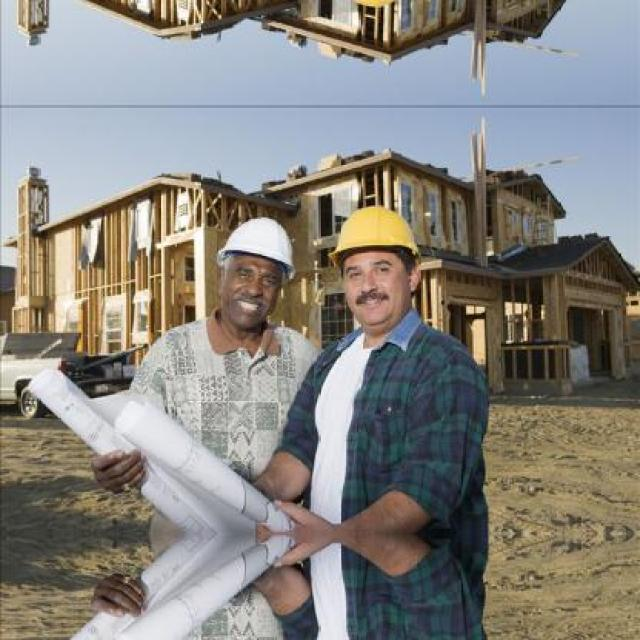helmet: (316, 194, 426, 332), (213, 207, 304, 328)
